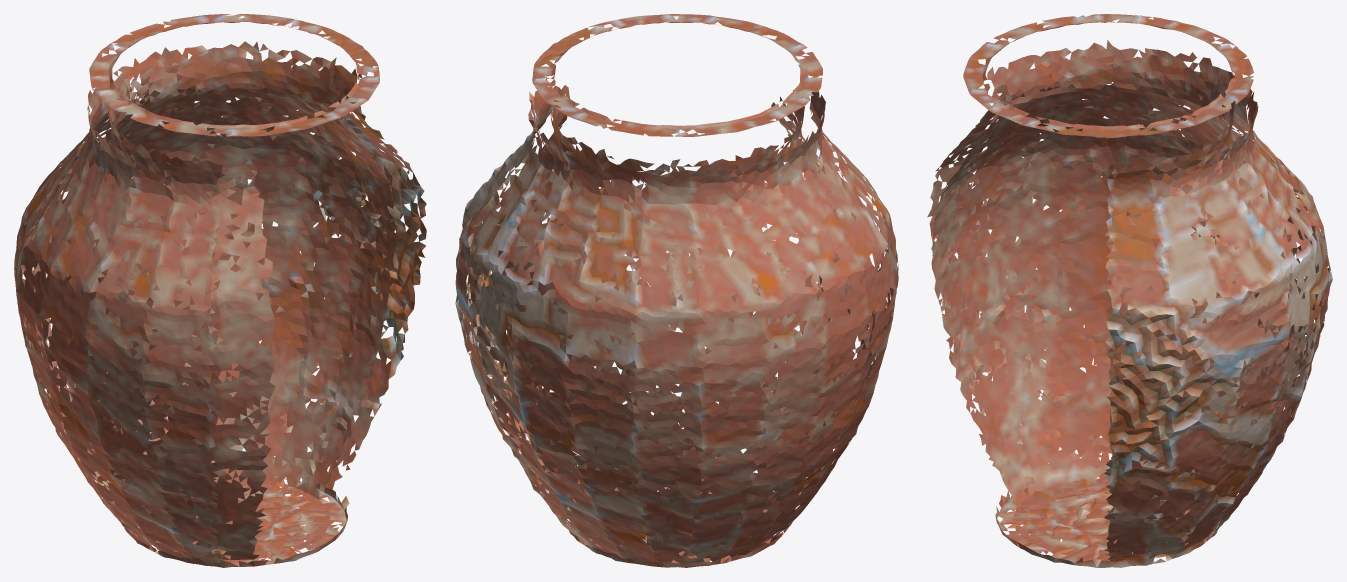
The model's file is vase2_final400.obj.
3 views of the same model, side by side, from view 1: azimuth 30°, elevation 25°; view 2: azimuth 150°, elevation 25°; view 3: azimuth 270°, elevation 25° (orthographic).
Size of the model in its own units: 1.51 by 1.69 by 1.38.
